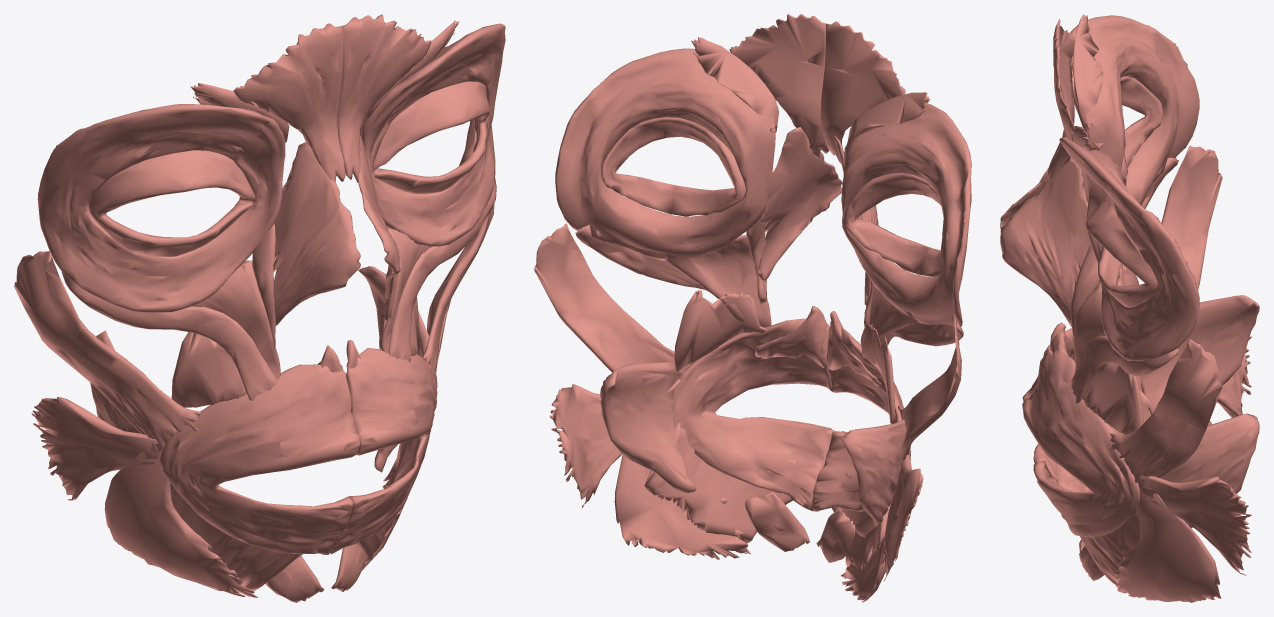
File: z-anatomy-facial-muscles.glb
3 renders of one model, left to right at view 1: azimuth 30°, elevation 25°; view 2: azimuth 150°, elevation 25°; view 3: azimuth 270°, elevation 25°, orthographic. The views are drawn at different scales.
Visible parts, largest first — view 1: facial-expression-muscles-orbital-part-of-orbicularis-oculi- (×2), facial-expression-muscles-orbicularis-oris-muscle-right__Orb, facial-expression-muscles-palpebral-part-of-orbicularis-ocul (×2), facial-expression-muscles-orbicularis-oris-muscle-left__Orbi, facial-expression-muscles-zygomaticus-major-muscle-right__Zy, facial-expression-muscles-nasalis-muscle-right__Nasalis musc, facial-expression-muscles-depressor-anguli-oris-right__Depre, facial-expression-muscles-procerus-muscle-right__Procerus mu, facial-expression-muscles-procerus-muscle-left__Procerus mus, facial-expression-muscles-risorius-muscle-right__Risorius mu, facial-expression-muscles-zygomaticus-minor-muscle-right__Zy, facial-expression-muscles-levator-anguli-oris-right__Levator (+13 smaller); view 2: facial-expression-muscles-orbital-part-of-orbicularis-oculi- (×2), facial-expression-muscles-orbicularis-oris-muscle-left__Orbi, facial-expression-muscles-palpebral-part-of-orbicularis-ocul (×2), facial-expression-muscles-zygomaticus-major-muscle-left__Zyg, facial-expression-muscles-bucinator-left__Bucinator.l, facial-expression-muscles-procerus-muscle-left__Procerus mus, facial-expression-muscles-nasalis-muscle-left__Nasalis muscl, facial-expression-muscles-procerus-muscle-right__Procerus mu, facial-expression-muscles-depressor-anguli-oris-left__Depres, facial-expression-muscles-depressor-labii-inferioris-left__D, facial-expression-muscles-orbicularis-oris-muscle-right__Orb, facial-expression-muscles-risorius-muscle-left__Risorius mus (+19 smaller); view 3: facial-expression-muscles-orbital-part-of-orbicularis-oculi- (×2), facial-expression-muscles-orbicularis-oris-muscle-left__Orbi, facial-expression-muscles-nasalis-muscle-left__Nasalis muscl, facial-expression-muscles-zygomaticus-major-muscle-left__Zyg, facial-expression-muscles-depressor-anguli-oris-left__Depres, facial-expression-muscles-palpebral-part-of-orbicularis-ocul (×2), facial-expression-muscles-risorius-muscle-left__Risorius mus, facial-expression-muscles-zygomaticus-major-muscle-right__Zy, facial-expression-muscles-bucinator-right__Bucinator.r, facial-expression-muscles-bucinator-left__Bucinator.l, facial-expression-muscles-levator-anguli-oris-left__Levator , facial-expression-muscles-corrugator-supercilii-right__Corru (+12 smaller).
Part boxes in pixels (x1,y1,x2,y2): facial-expression-muscles-orbital-part-of-orbicularis-oculi- (×2): (37,23,505,312); facial-expression-muscles-orbicularis-oris-muscle-right__Orb: (160,364,360,555); facial-expression-muscles-palpebral-part-of-orbicularis-ocul (×2): (88,81,489,256); facial-expression-muscles-orbicularis-oris-muscle-left__Orbi: (329,348,437,553); facial-expression-muscles-zygomaticus-major-muscle-right__Zy: (14,251,201,455); facial-expression-muscles-nasalis-muscle-right__Nasalis musc: (273,142,360,325); facial-expression-muscles-depressor-anguli-oris-right__Depre: (104,449,257,597); facial-expression-muscles-procerus-muscle-right__Procerus mu: (233,23,345,182); facial-expression-muscles-procerus-muscle-left__Procerus mus: (337,14,431,182); facial-expression-muscles-risorius-muscle-right__Risorius mu: (31,397,162,500); facial-expression-muscles-zygomaticus-minor-muscle-right__Zy: (61,271,277,400); facial-expression-muscles-levator-anguli-oris-right__Levator: (171,332,246,407); facial-expression-muscles-orbital-part-of-orbicularis-oculi- (×2): (555,48,971,326); facial-expression-muscles-orbicularis-oris-muscle-left__Orbi: (672,318,835,511); facial-expression-muscles-palpebral-part-of-orbicularis-ocul (×2): (601,117,941,276); facial-expression-muscles-zygomaticus-major-muscle-left__Zyg: (534,223,698,383); facial-expression-muscles-bucinator-left__Bucinator.l: (600,362,696,493); facial-expression-muscles-procerus-muscle-left__Procerus mus: (729,14,829,157); facial-expression-muscles-nasalis-muscle-left__Nasalis muscl: (758,127,842,280); facial-expression-muscles-procerus-muscle-right__Procerus mu: (820,21,905,163); facial-expression-muscles-depressor-anguli-oris-left__Depres: (614,379,750,559); facial-expression-muscles-depressor-labii-inferioris-left__D: (644,423,796,543); facial-expression-muscles-orbicularis-oris-muscle-right__Orb: (812,327,910,511); facial-expression-muscles-risorius-muscle-left__Risorius mus: (550,384,676,507); facial-expression-muscles-orbital-part-of-orbicularis-oculi- (×2): (1059,15,1199,361); facial-expression-muscles-orbicularis-oris-muscle-left__Orbi: (1022,348,1139,537); facial-expression-muscles-nasalis-muscle-left__Nasalis muscl: (1000,158,1090,327); facial-expression-muscles-zygomaticus-major-muscle-left__Zyg: (1108,339,1222,489); facial-expression-muscles-depressor-anguli-oris-left__Depres: (1114,487,1221,602); facial-expression-muscles-palpebral-part-of-orbicularis-ocul (×2): (1086,76,1163,307); facial-expression-muscles-risorius-muscle-left__Risorius mus: (1138,475,1251,575); facial-expression-muscles-zygomaticus-major-muscle-right__Zy: (1143,145,1222,301); facial-expression-muscles-bucinator-right__Bucinator.r: (1140,295,1259,415); facial-expression-muscles-bucinator-left__Bucinator.l: (1160,413,1259,528); facial-expression-muscles-levator-anguli-oris-left__Levator : (1082,363,1143,434); facial-expression-muscles-corrugator-supercilii-right__Corru: (1072,14,1103,129).
Bounding box in the file's own units: 0.111 × 0.1323 × 0.058.
